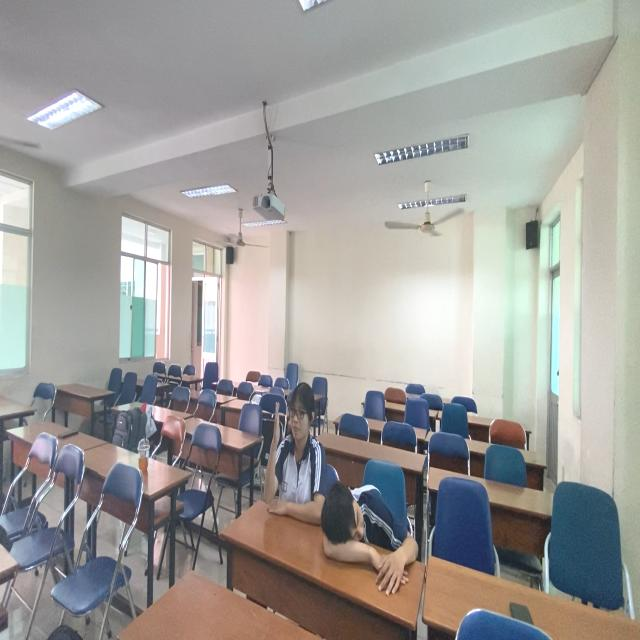raise_hand: (262, 384, 322, 547)
sleep: (320, 476, 418, 592)
